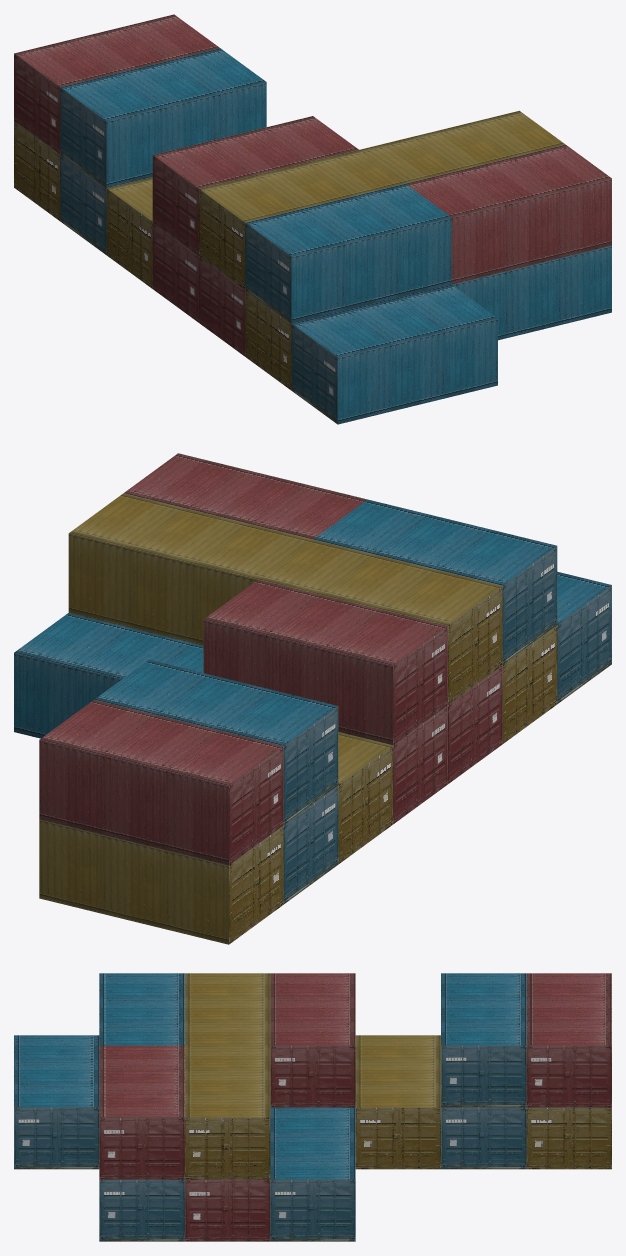
File: vgsfrates11.obj
The picture shows the model from 3 angles, top to bottom: view 1: azimuth 30°, elevation 25°; view 2: azimuth 150°, elevation 25°; view 3: azimuth 270°, elevation 25°; orthographic projection. The views are drawn at different scales.
Parts seen in each view (by area): view 1: vgsfrates11; view 2: vgsfrates11; view 3: vgsfrates11.
Part boxes in pixels (bbox=[...]): vgsfrates11: bbox=[14, 14, 611, 424]; vgsfrates11: bbox=[14, 453, 611, 944]; vgsfrates11: bbox=[14, 973, 611, 1241].
Bounding box in the file's own units: 20 × 8 × 35.
Materials: 6 (6 with a texture image).
